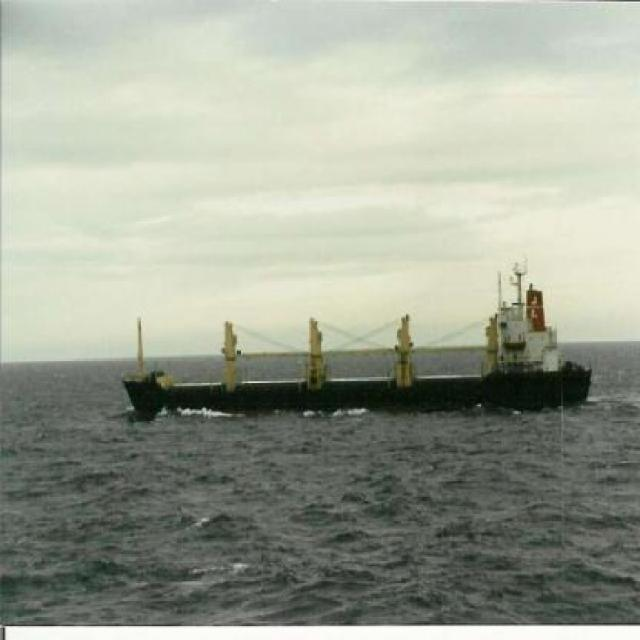ship: (141, 263, 590, 408)
